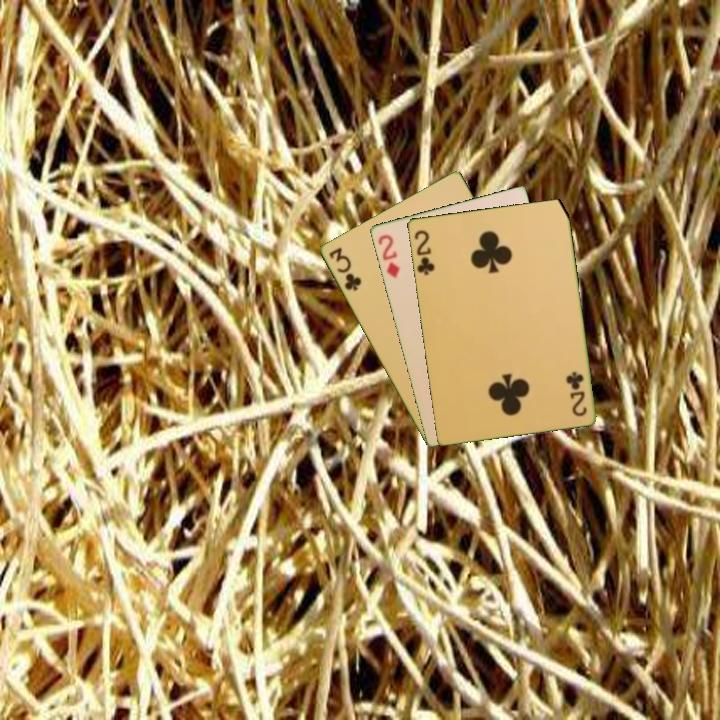2c: (411, 226, 437, 278), (564, 368, 589, 419)
2d: (374, 231, 403, 281)
3c: (325, 243, 364, 294)
